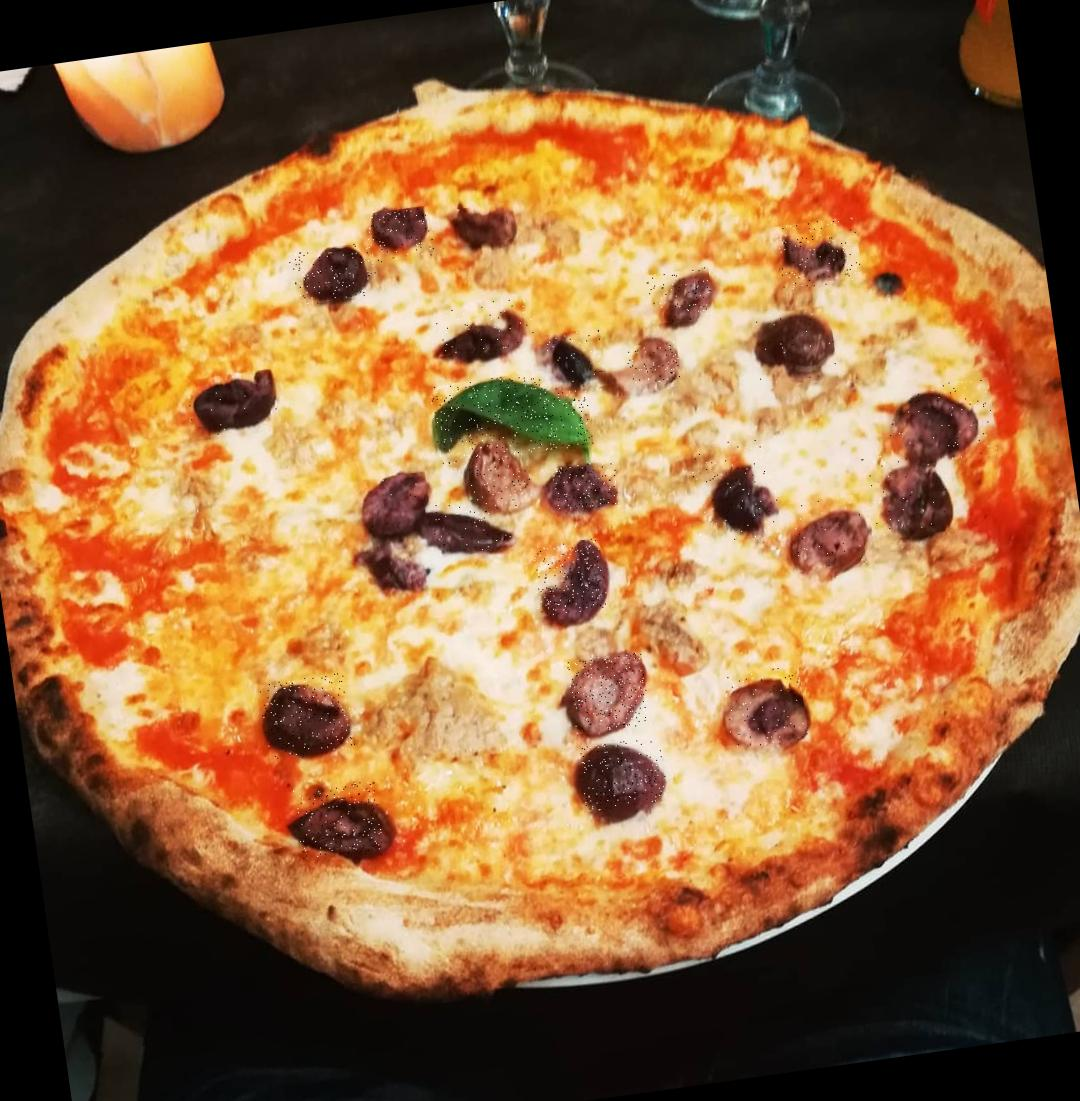Basil: (429, 365, 594, 466)
Ham: (882, 376, 1000, 468), (688, 436, 783, 544), (860, 446, 959, 540), (258, 671, 356, 759), (748, 305, 840, 391), (184, 368, 289, 440), (722, 663, 809, 748), (294, 778, 384, 859), (566, 650, 652, 734), (578, 736, 670, 811), (433, 292, 535, 357), (776, 216, 864, 290), (530, 538, 609, 618), (789, 493, 867, 572), (462, 432, 536, 512), (289, 241, 380, 306), (426, 495, 514, 558), (543, 328, 608, 394), (364, 205, 436, 264), (646, 267, 715, 325), (364, 471, 432, 528), (552, 459, 620, 512), (626, 339, 682, 385), (454, 202, 510, 246)
Pizza: (0, 27, 1080, 1054)
